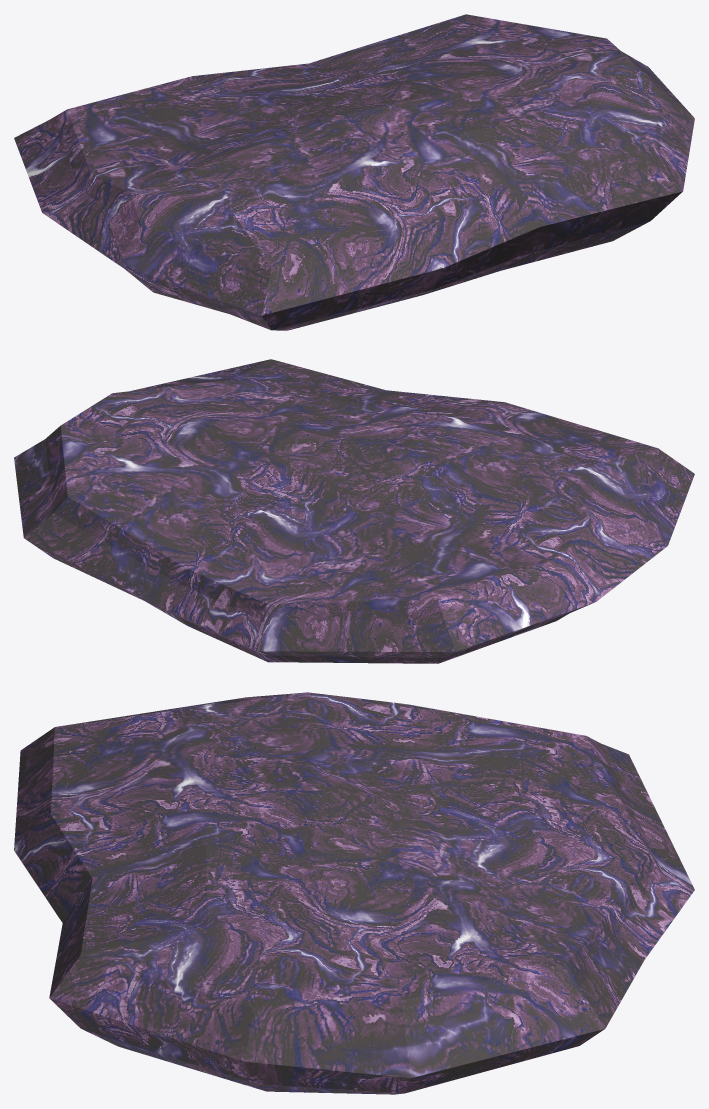
The model's file is Sea_RockL_2.fbx.
The picture shows the model from 3 angles, top to bottom: view 1: azimuth 30°, elevation 25°; view 2: azimuth 150°, elevation 25°; view 3: azimuth 270°, elevation 25°; orthographic projection. The views are drawn at different scales.
Visible parts, largest first — view 1: Sea_RockL_2; view 2: Sea_RockL_2; view 3: Sea_RockL_2.
Boxes of the visible parts, <box> form: Sea_RockL_2: <box>14,14,694,330</box>; Sea_RockL_2: <box>14,359,694,663</box>; Sea_RockL_2: <box>14,692,694,1094</box>.
Size of the model in its own units: 6656 by 1339 by 5283.
Materials: 1 (1 with a texture image).
